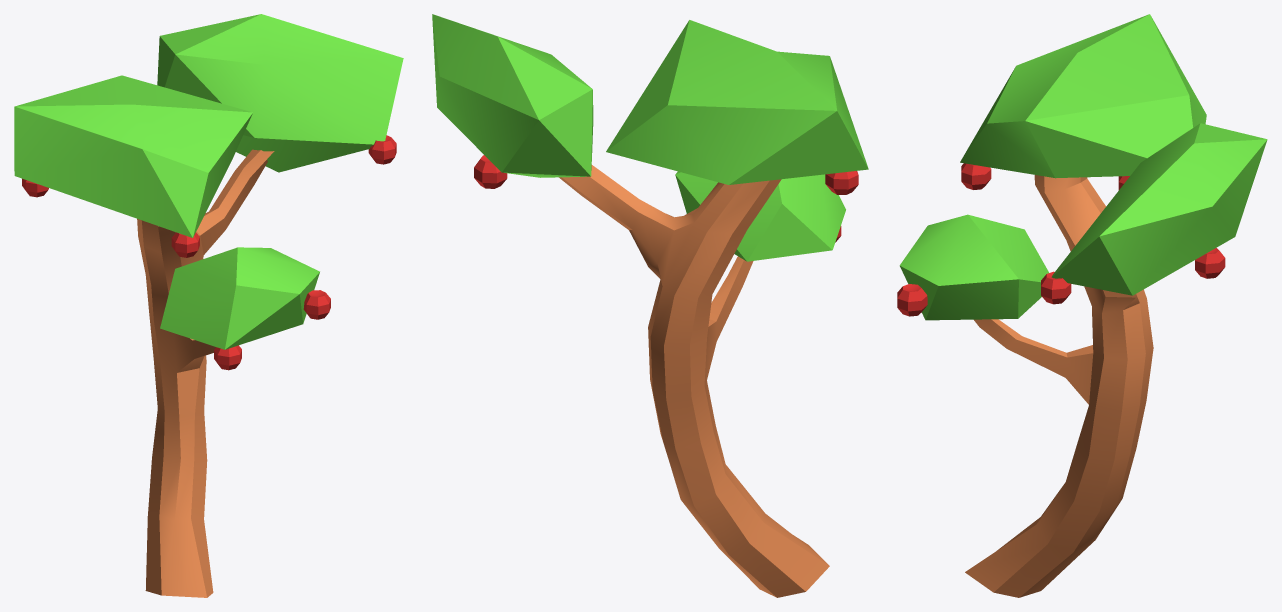
The model's file is tree5(1).fbx.
3 views of the same model, side by side, from view 1: azimuth 30°, elevation 25°; view 2: azimuth 150°, elevation 25°; view 3: azimuth 270°, elevation 25° (orthographic). The views are drawn at different scales.
Visible parts, largest first — view 1: Icosphere.009, Icosphere.010, Cube.004, Icosphere.011, Sphere.001, Sphere.002, Sphere.005, Sphere; view 2: Cube.004, Icosphere.009, Icosphere.010, Icosphere.011, Sphere.003, Sphere.006; view 3: Cube.004, Icosphere.009, Icosphere.010, Icosphere.011, Sphere.001, Sphere.002, Sphere.003, Sphere.005.
Boxes of the visible parts, box(x1,y1,x2,y2) form: Icosphere.009: box(14, 75, 252, 237); Icosphere.010: box(157, 14, 403, 172); Cube.004: box(137, 149, 274, 597); Icosphere.011: box(160, 247, 319, 349); Sphere.001: box(303, 290, 330, 319); Sphere.002: box(368, 135, 396, 164); Sphere.005: box(171, 232, 199, 257); Sphere: box(214, 345, 241, 370); Cube.004: box(559, 165, 829, 597); Icosphere.009: box(606, 20, 868, 184); Icosphere.010: box(432, 14, 593, 177); Icosphere.011: box(675, 171, 845, 261); Sphere.003: box(474, 155, 507, 188); Sphere.006: box(825, 171, 858, 194); Cube.004: box(965, 175, 1153, 597); Icosphere.009: box(960, 14, 1206, 178); Icosphere.010: box(1051, 123, 1267, 295); Icosphere.011: box(899, 214, 1048, 320); Sphere.001: box(897, 284, 927, 316); Sphere.002: box(1041, 271, 1071, 304); Sphere.003: box(1195, 248, 1225, 278); Sphere.005: box(961, 163, 991, 189).
Bounding box in the file's own units: 826 × 1002 × 636.
